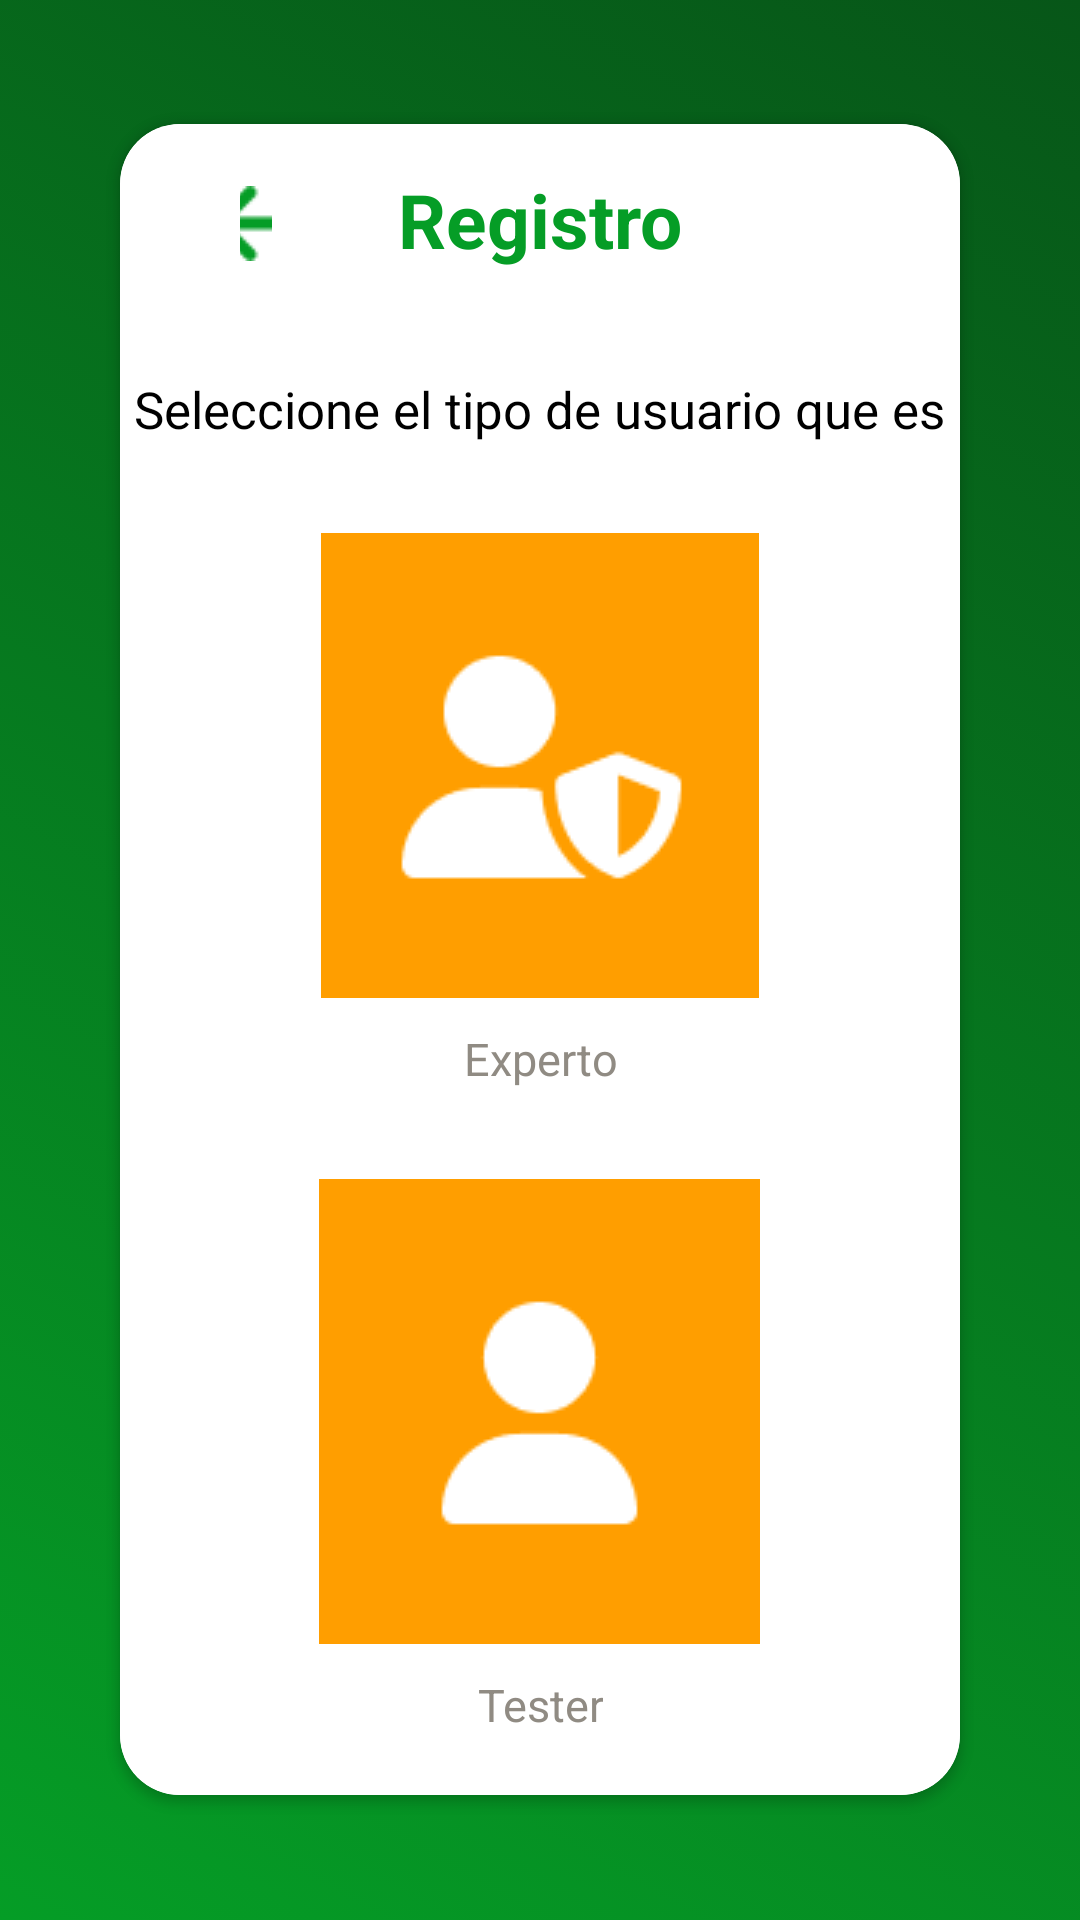

Named icons in this screenshot (1080w x 1920h) and their centers, (x,y):
vectorback: (256,223)
